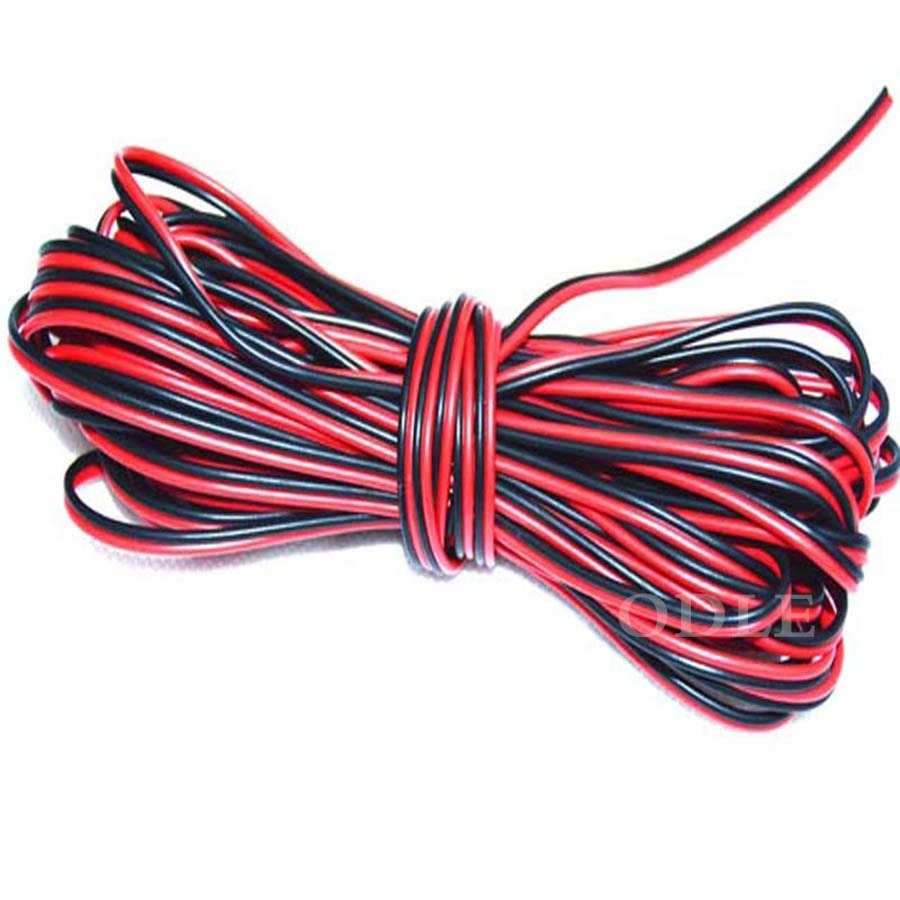Nonrec_Tangler: (19, 73, 877, 772)
